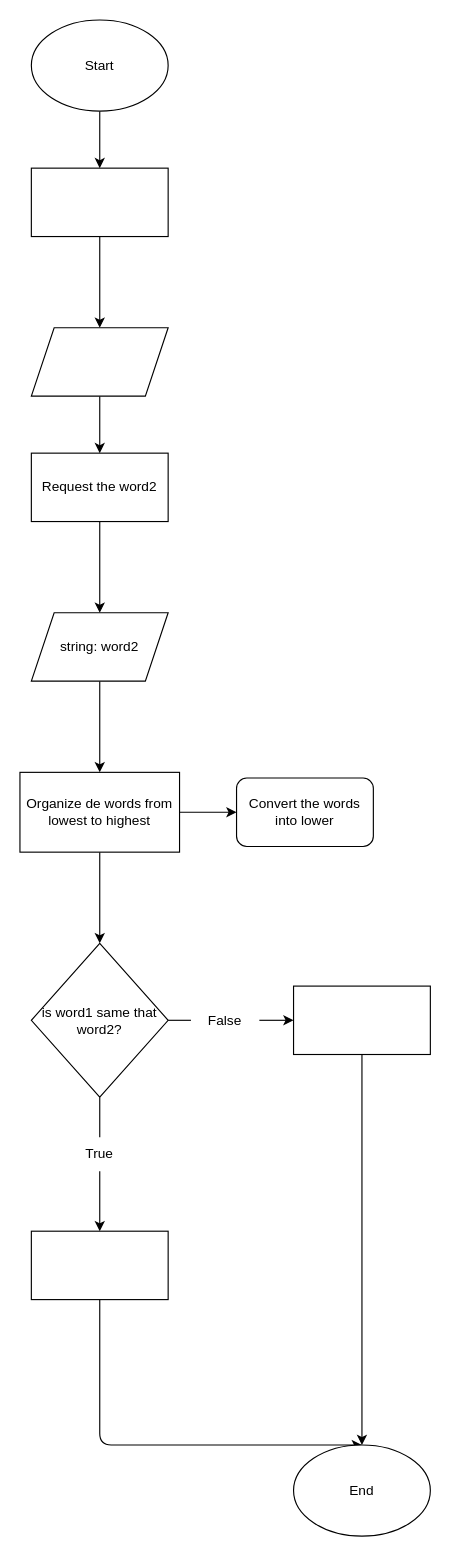
The diagram is 450 pixels wide and 1556 high, and some of its shapes have lost their labels. The centre of each missing label's shape, as x and y in pixels:
"Request the word1" goes at pixel 99 202.
"Return False" goes at pixel 361 1019.
"Return true" goes at pixel 99 1265.
"string: word1" goes at pixel 99 361.
